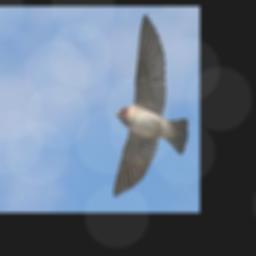Swallow: (112, 12, 188, 196)
